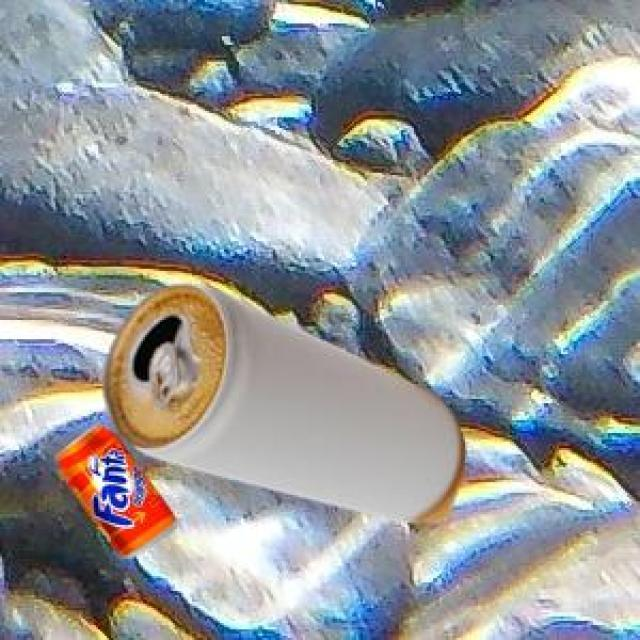Can: (101, 281, 462, 519), (54, 423, 174, 556)
